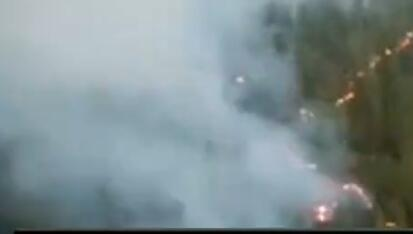yanwu: (1, 1, 349, 230)
